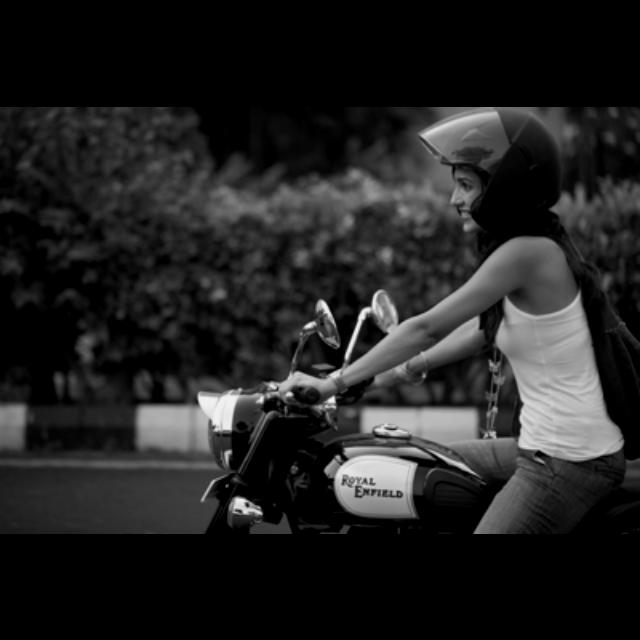With Helmet: (416, 106, 572, 236)
